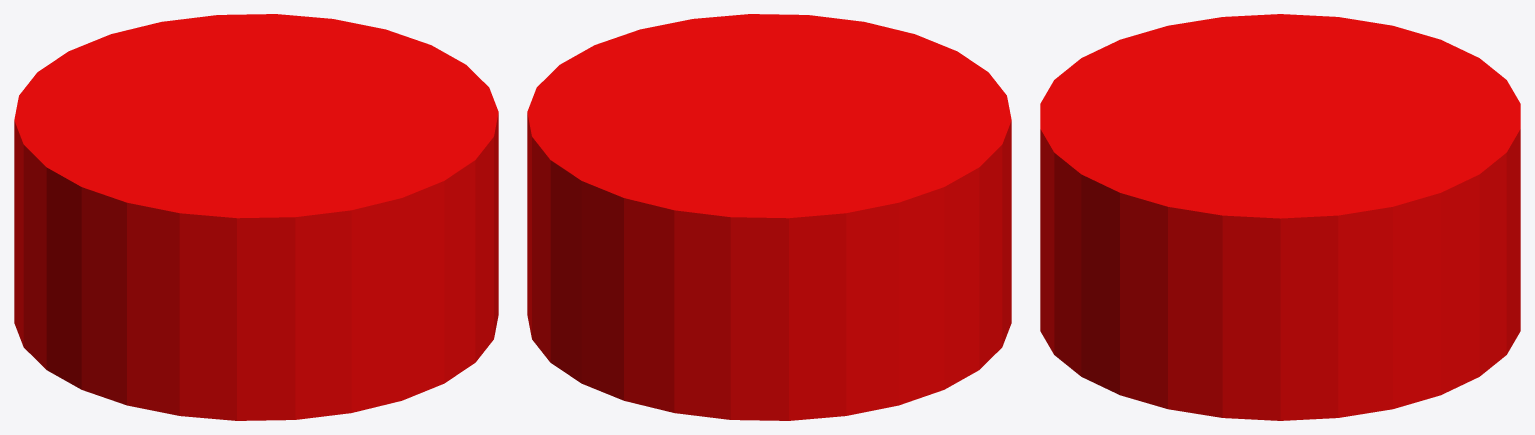
File: wheel_collision.dae
3 views of the same model, side by side, from view 1: azimuth 30°, elevation 25°; view 2: azimuth 150°, elevation 25°; view 3: azimuth 270°, elevation 25° (orthographic).
Parts seen in each view (by area): view 1: node0; view 2: node0; view 3: node0.
Part boxes in pixels (x1=…): node0: x1=14, y1=14, x2=498, y2=420; node0: x1=527, y1=14, x2=1011, y2=420; node0: x1=1040, y1=14, x2=1520, y2=420.
Bounding box in the file's own units: 0.13 × 0.1291 × 0.06.
